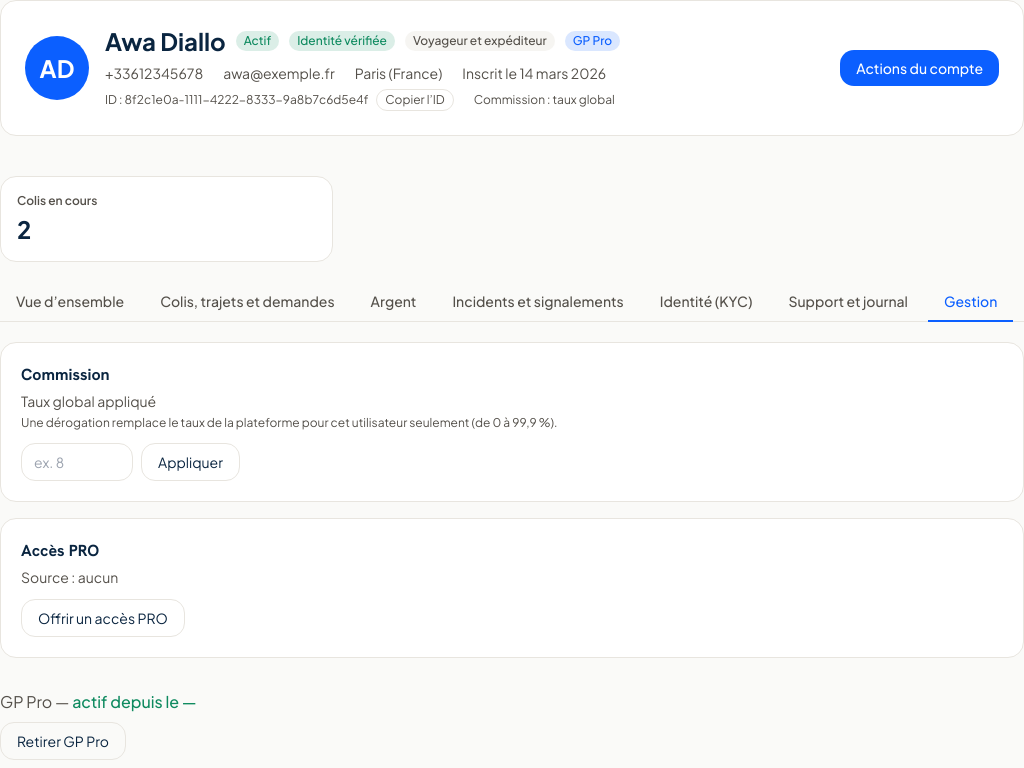
Test: users/[id].vue › onglet Gestion › échec d’un geste depuis Gestion : une seule alerte, dans l’onglet
Type "8" into the number field with test id "commission-input" at (77, 462), box [21,443,133,481]
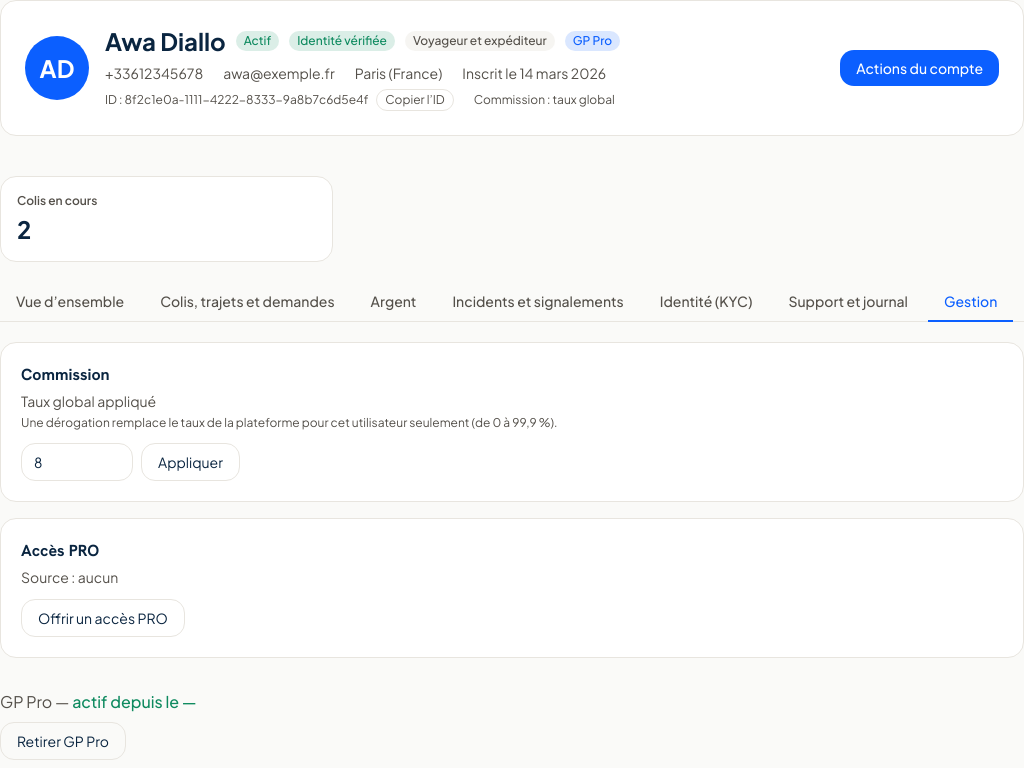
Click the button with test id "commission-apply" at (190, 462), box [141,443,240,481]
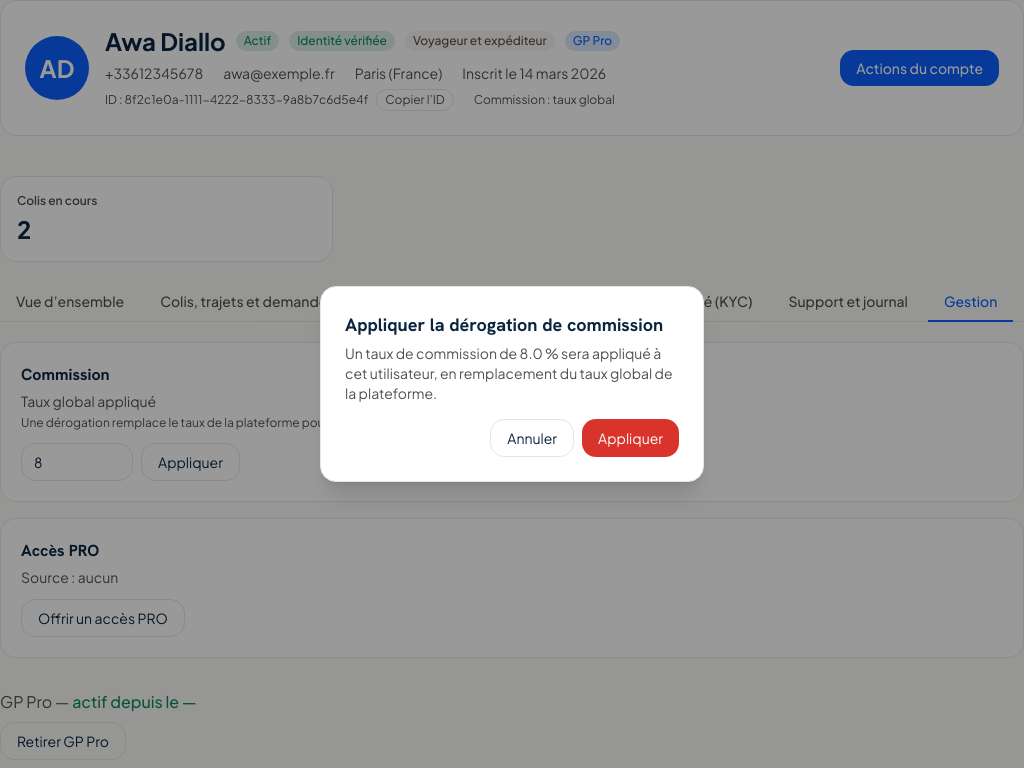
Click the button with test id "confirm" at (631, 438), box [582,419,679,457]
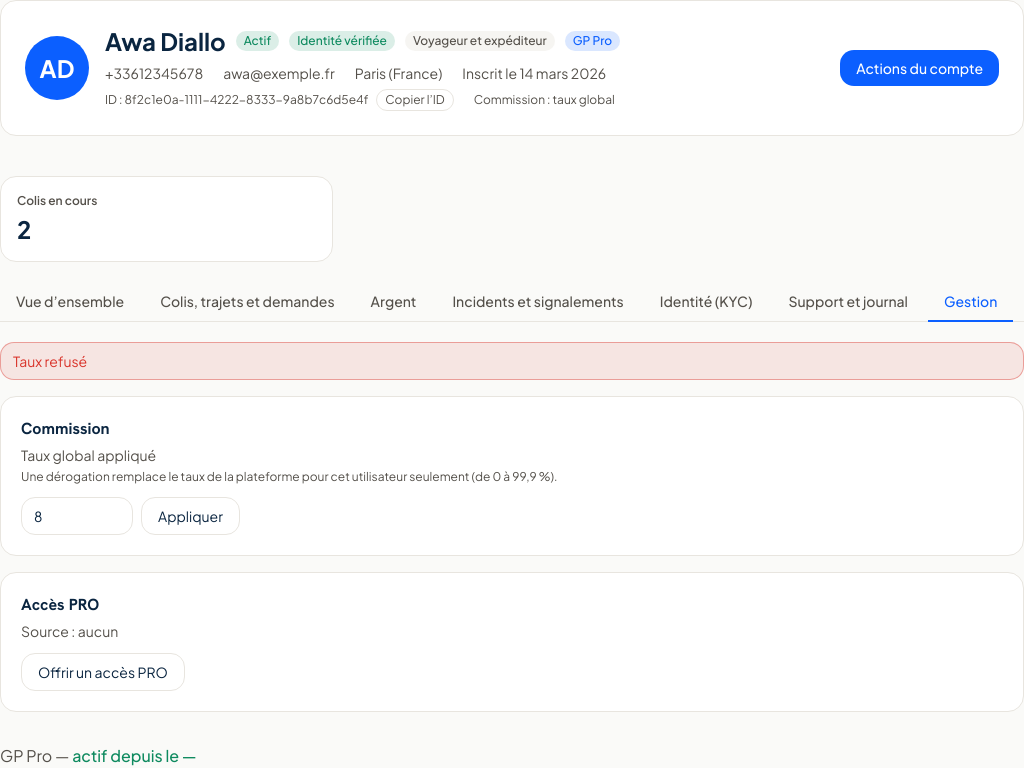
Result: the message with test id "manage-error" reads "Taux refusé" at [13,352,87,370]
